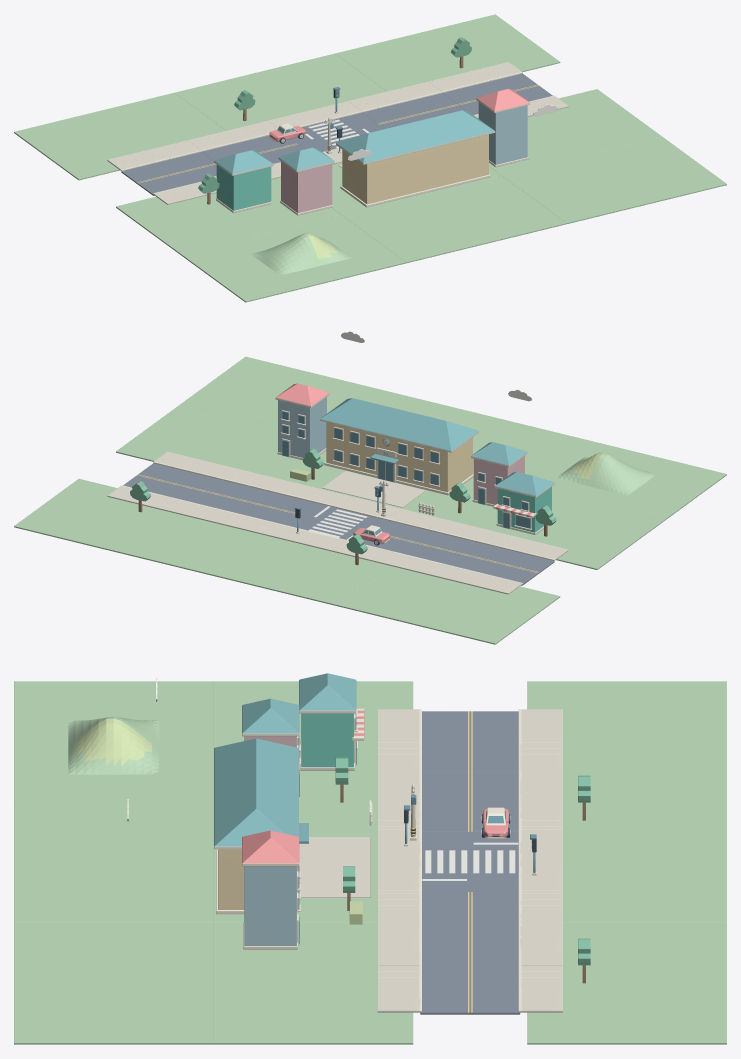
File: SoftStreetSet.fbx
The picture shows the model from 3 angles, top to bottom: view 1: azimuth 30°, elevation 25°; view 2: azimuth 150°, elevation 25°; view 3: azimuth 270°, elevation 25°; orthographic projection. The views are drawn at different scales.
Parts seen in each view (by area): view 1: GrassTile.005, GrassTile.008, GrassTile.001, GrassTile.006, GrassTile.003, GrassTile.004, GrassTile.002, GrassTile.007, SchoolWalls, SchoolRoof, TerrainRidge, RoadSurface.001 (+18 smaller); view 2: GrassTile.001, GrassTile.006, GrassTile.004, GrassTile.003, GrassTile.007, GrassTile.008, GrassTile.002, SchoolRoof, SchoolWalls, GrassTile.005, RoadSurface.001, RoadSurface.002 (+22 smaller); view 3: GrassTile.008, GrassTile.005, GrassTile.006, GrassTile.001, GrassTile.007, GrassTile.004, GrassTile.003, GrassTile.002, SchoolRoof, RoadSurface.003, RoadSurface.001, RoadSurface.002 (+21 smaller).
Part boxes in pixels (x1=…): GrassTile.005: x1=341, y1=175, x2=566, y2=263; GrassTile.008: x1=502, y1=136, x2=726, y2=223; GrassTile.001: x1=14, y1=92, x2=225, y2=180; GrassTile.006: x1=335, y1=14, x2=560, y2=91; GrassTile.003: x1=180, y1=215, x2=405, y2=302; GrassTile.004: x1=175, y1=53, x2=386, y2=130; GrassTile.002: x1=116, y1=177, x2=340, y2=254; GrassTile.007: x1=489, y1=89, x2=661, y2=175; SchoolWalls: x1=342, y1=134, x2=488, y2=204; SchoolRoof: x1=336, y1=110, x2=495, y2=164; TerrainRidge: x1=251, y1=233, x2=351, y2=274; RoadSurface.001: x1=121, y1=152, x2=216, y2=195; GrassTile.001: x1=335, y1=565, x2=560, y2=644; GrassTile.006: x1=14, y1=478, x2=227, y2=566; GrassTile.004: x1=174, y1=526, x2=387, y2=605; GrassTile.003: x1=525, y1=435, x2=726, y2=522; GrassTile.007: x1=116, y1=404, x2=326, y2=480; GrassTile.008: x1=181, y1=356, x2=405, y2=427; GrassTile.002: x1=450, y1=494, x2=661, y2=569; SchoolRoof: x1=320, y1=398, x2=478, y2=452; SchoolWalls: x1=326, y1=422, x2=472, y2=492; GrassTile.005: x1=390, y1=395, x2=565, y2=473; RoadSurface.001: x1=444, y1=541, x2=554, y2=585; RoadSurface.002: x1=204, y1=483, x2=313, y2=524; GrassTile.008: x1=14, y1=922, x2=213, y2=1044; GrassTile.005: x1=14, y1=801, x2=213, y2=922; GrassTile.006: x1=527, y1=922, x2=726, y2=1044; GrassTile.001: x1=527, y1=681, x2=726, y2=801; GrassTile.007: x1=213, y1=922, x2=413, y2=1044; GrassTile.004: x1=563, y1=801, x2=726, y2=922; GrassTile.003: x1=14, y1=681, x2=213, y2=801; GrassTile.002: x1=213, y1=681, x2=413, y2=801; SchoolRoof: x1=214, y1=738, x2=298, y2=849; RoadSurface.003: x1=420, y1=952, x2=520, y2=1014; RoadSurface.001: x1=422, y1=711, x2=518, y2=771; RoadSurface.002: x1=422, y1=892, x2=518, y2=952.
Size of the model in its own units: 60 by 10.5 by 50.
